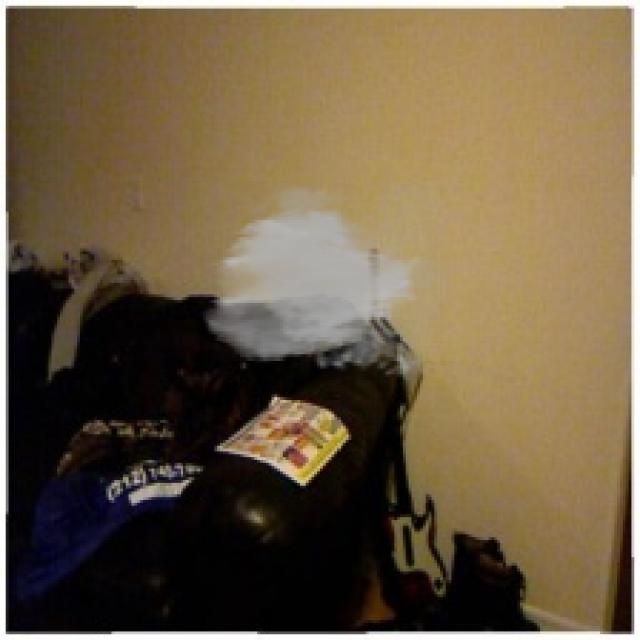smoke: (200, 180, 446, 383)
